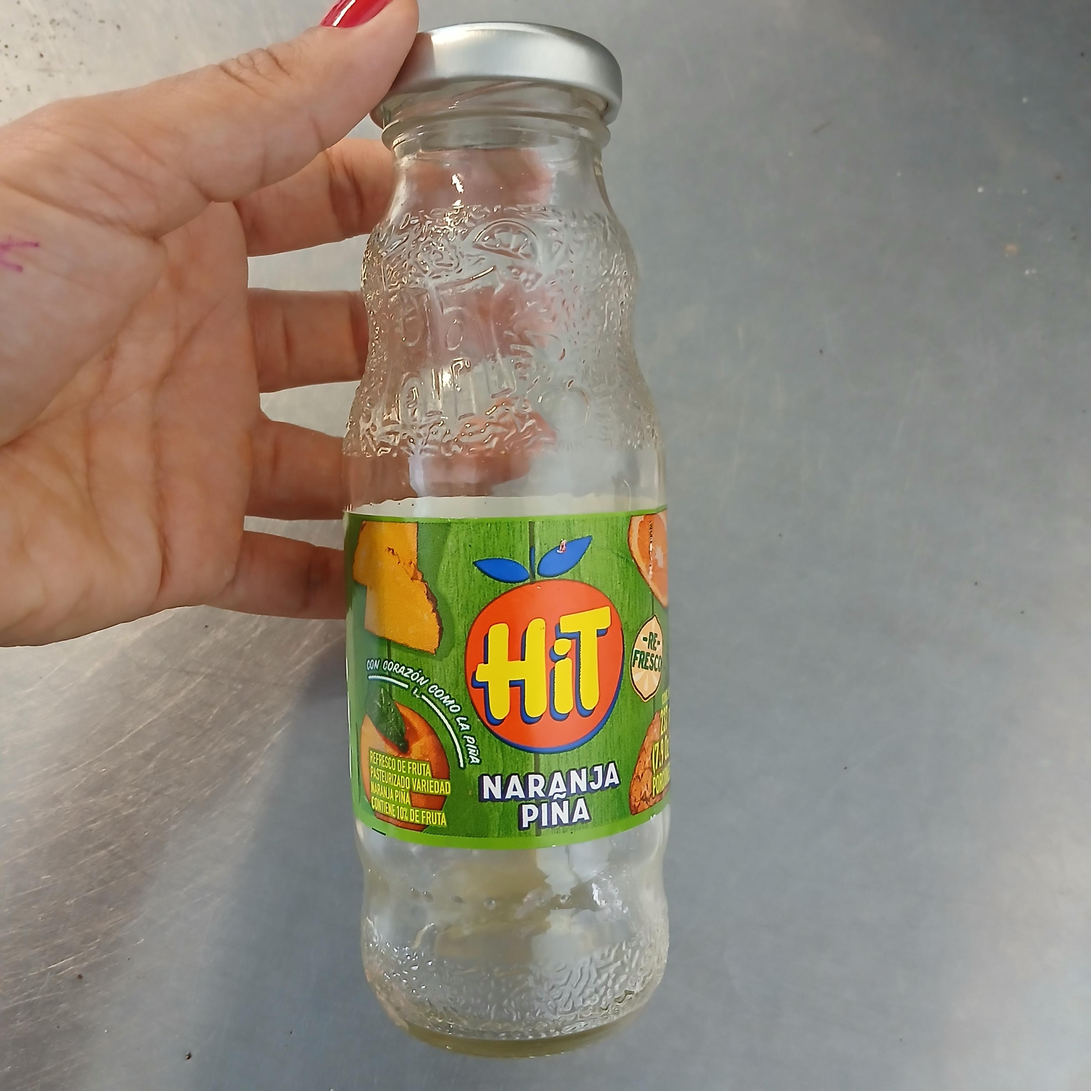Metal: (397, 21, 622, 79)
Vidrio: (342, 84, 674, 1058)
